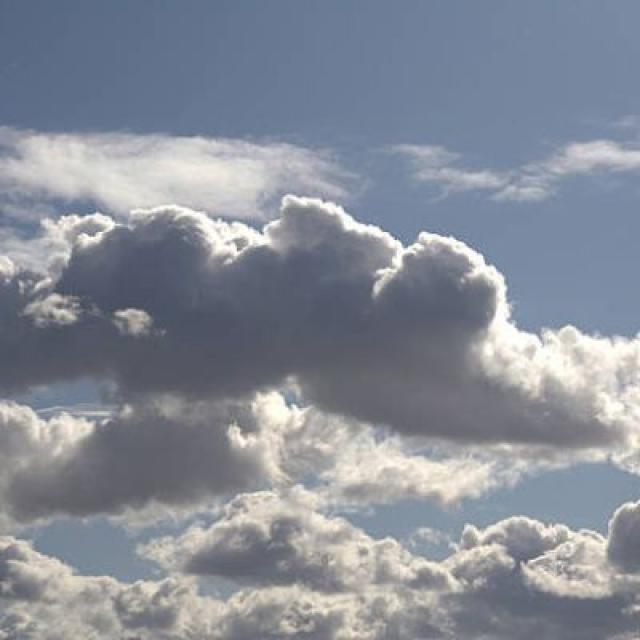As: (4, 182, 634, 476)
